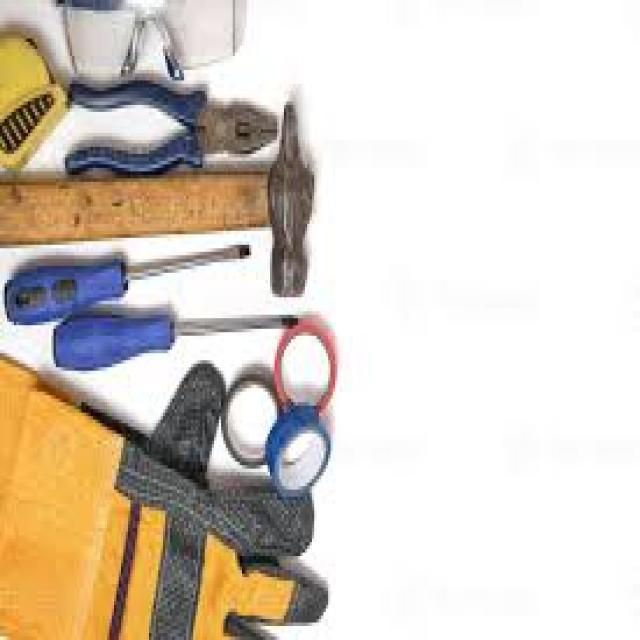hammer: (0, 90, 328, 304)
screwdriver: (0, 240, 261, 338), (48, 309, 302, 376)
